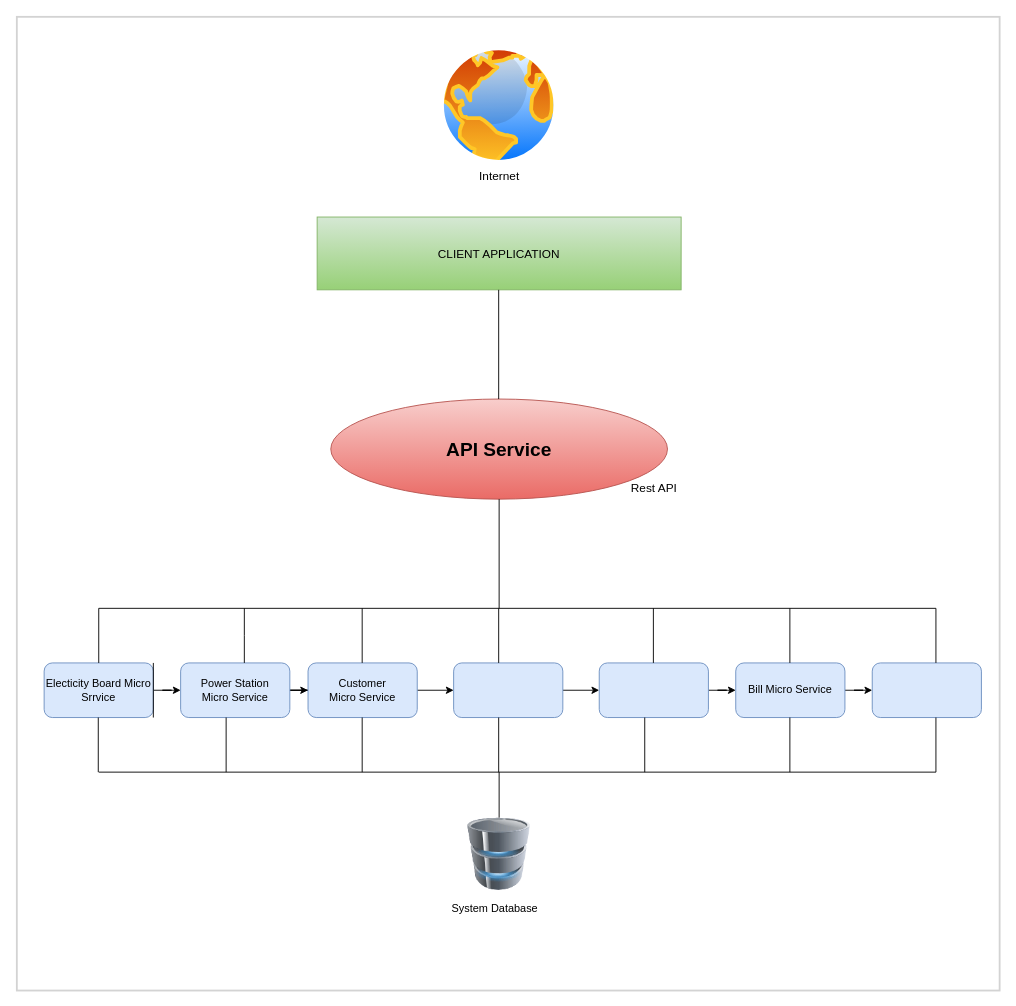
Some shapes in this 1016 by 1006 pixel diagram are drawn without their labels. Here are the shapes that lost their labels. From the top down, the centre of each, then its label:
At pixel 508 690: "Employee Micro Srvice".
At pixel 653 690: "Payment Micro Service".
At pixel 926 690: "Consumption Micro Service".
